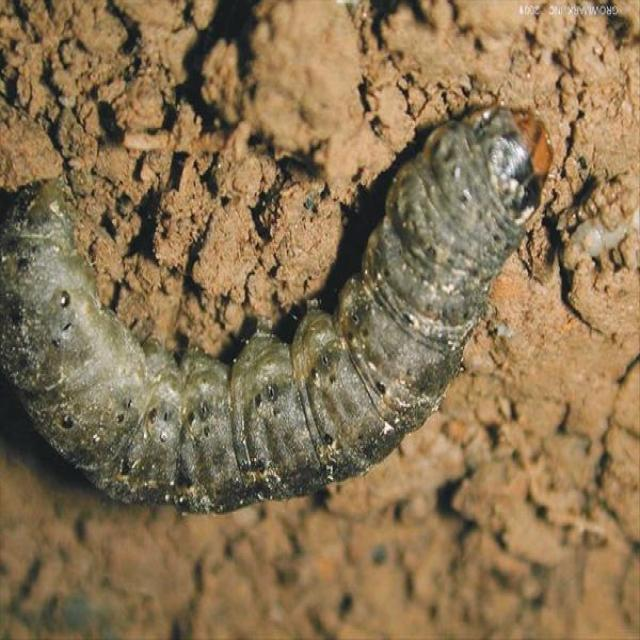black cutworm: (3, 100, 552, 516)
